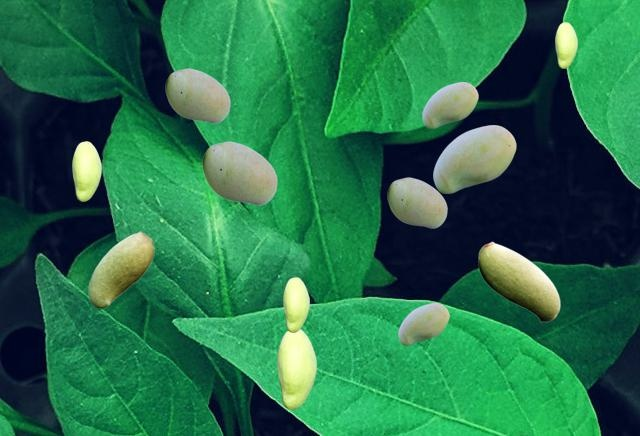green_mango: (478, 241, 559, 321), (433, 125, 515, 192), (88, 231, 153, 307), (202, 141, 276, 204), (165, 68, 229, 122), (277, 329, 315, 408), (387, 177, 446, 227), (422, 82, 477, 127), (398, 303, 448, 344), (72, 141, 100, 200), (283, 277, 308, 331), (555, 22, 576, 67)
